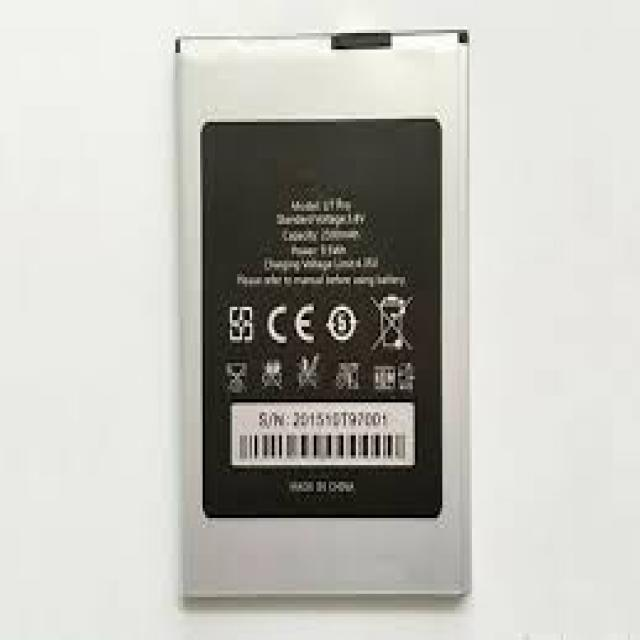non-organic waste: (176, 33, 474, 599)
